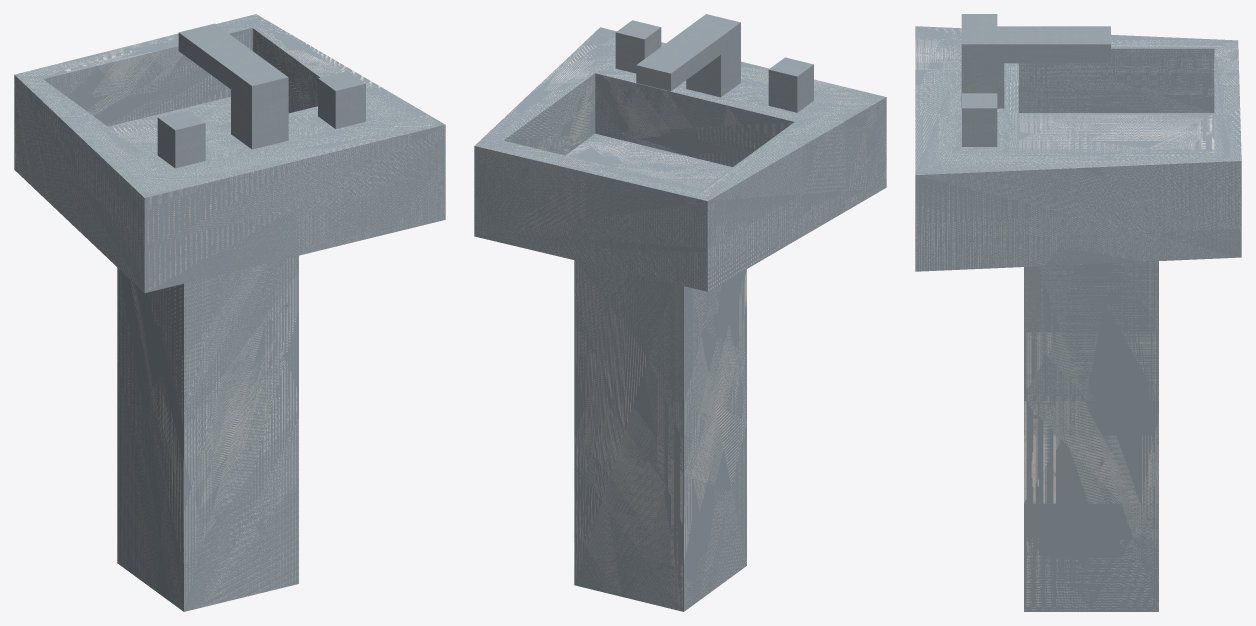
File: lavamanos.fbx
The picture shows the model from 3 angles, left to right: view 1: azimuth 30°, elevation 25°; view 2: azimuth 150°, elevation 25°; view 3: azimuth 270°, elevation 25°; orthographic projection. The views are drawn at different scales.
Parts seen in each view (by area): view 1: Model; view 2: Model; view 3: Model.
Part boxes in pixels (x1,y1,x2,y2): Model: (14,14,445,611); Model: (474,14,886,611); Model: (915,14,1241,611).
Bounding box in the file's own units: 0.4965 × 0.85 × 0.4595.
